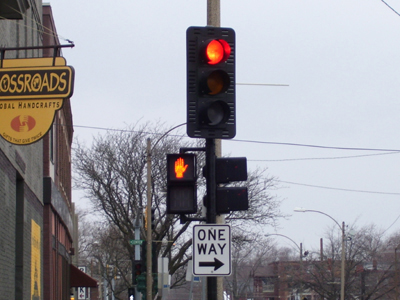trafficlight_red: (193, 33, 232, 133)
